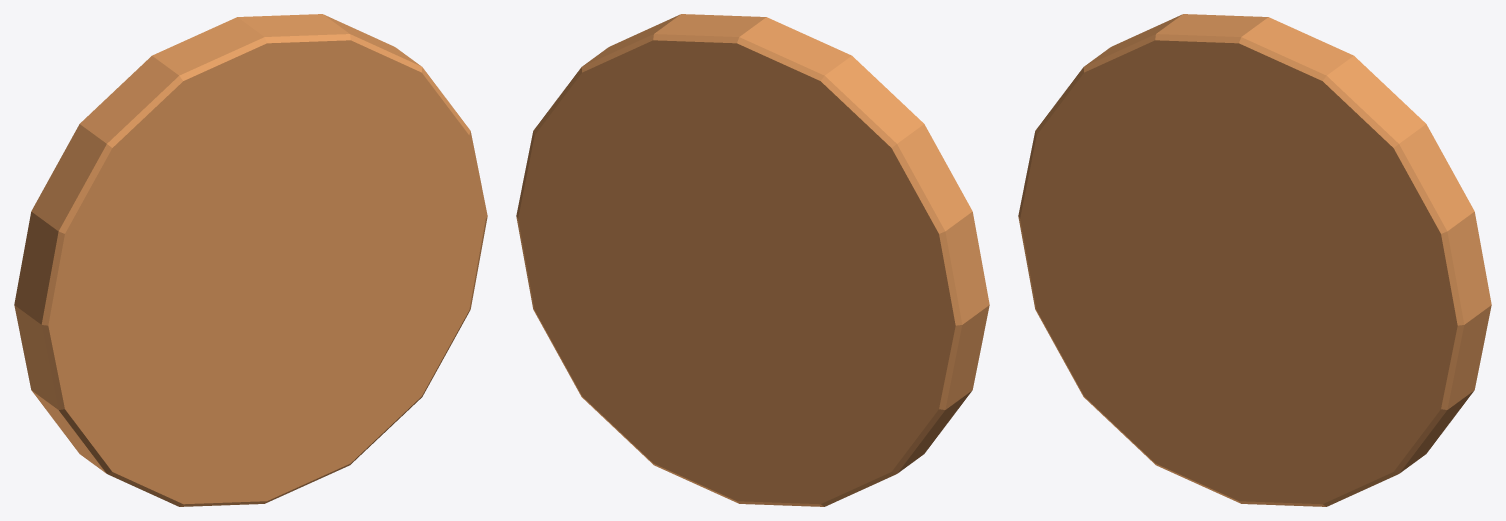
The model's file is coin.glb.
The picture shows the model from 3 angles, left to right: view 1: azimuth 30°, elevation 25°; view 2: azimuth 150°, elevation 25°; view 3: azimuth 330°, elevation 25°; orthographic projection.
Parts seen in each view (by area): view 1: Cylinder; view 2: Cylinder; view 3: Cylinder.
Boxes of the visible parts, bbox=[...] form: Cylinder: bbox=[14, 14, 487, 506]; Cylinder: bbox=[516, 14, 989, 506]; Cylinder: bbox=[1018, 14, 1491, 506].
Bounding box in the file's own units: 0.4 × 0.4 × 0.05.
